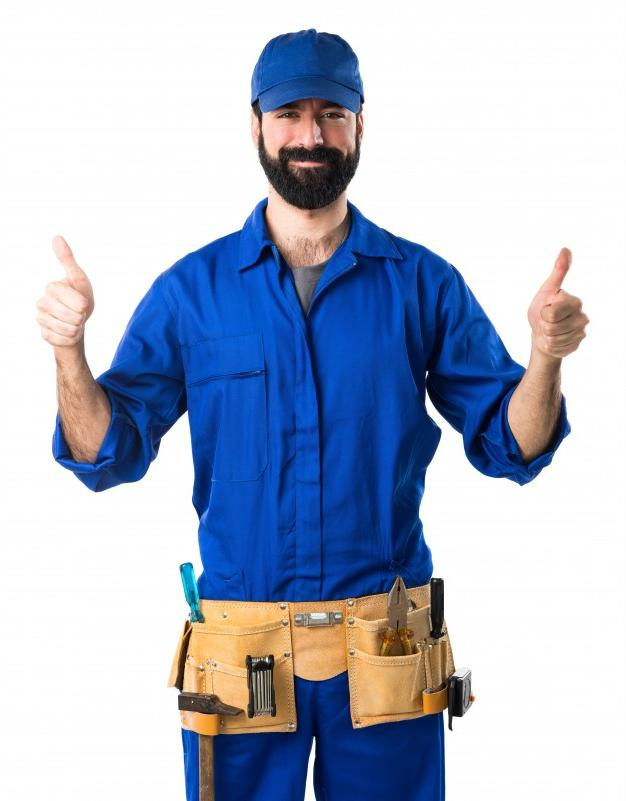thumbsup: (37, 235, 92, 346), (537, 247, 590, 357)
